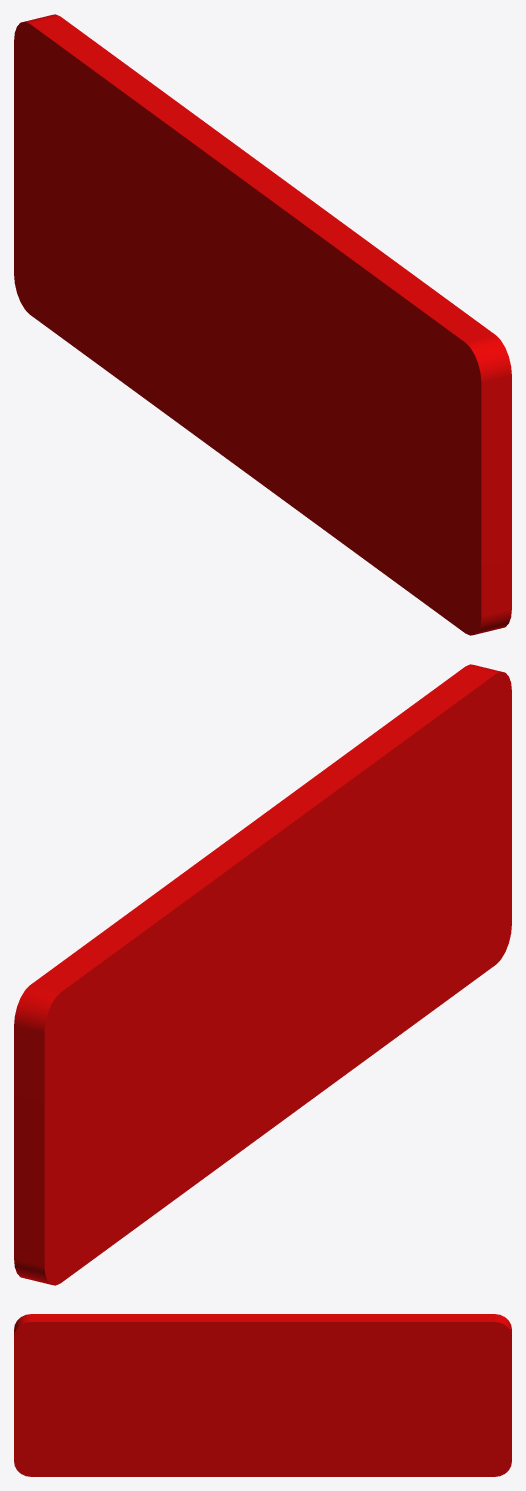
Rendered from StreetSign.fbx.
The picture shows the model from 3 angles, top to bottom: view 1: azimuth 30°, elevation 25°; view 2: azimuth 150°, elevation 25°; view 3: azimuth 270°, elevation 25°; orthographic projection. The views are drawn at different scales.
Visible parts, largest first — view 1: pCube71; view 2: pCube71; view 3: pCube71.
Part boxes in pixels (bbox=[...]): pCube71: bbox=[14, 14, 511, 635]; pCube71: bbox=[14, 664, 511, 1285]; pCube71: bbox=[14, 1314, 511, 1476].
Bounding box in the file's own units: 0.1098 × 1 × 2.91.
